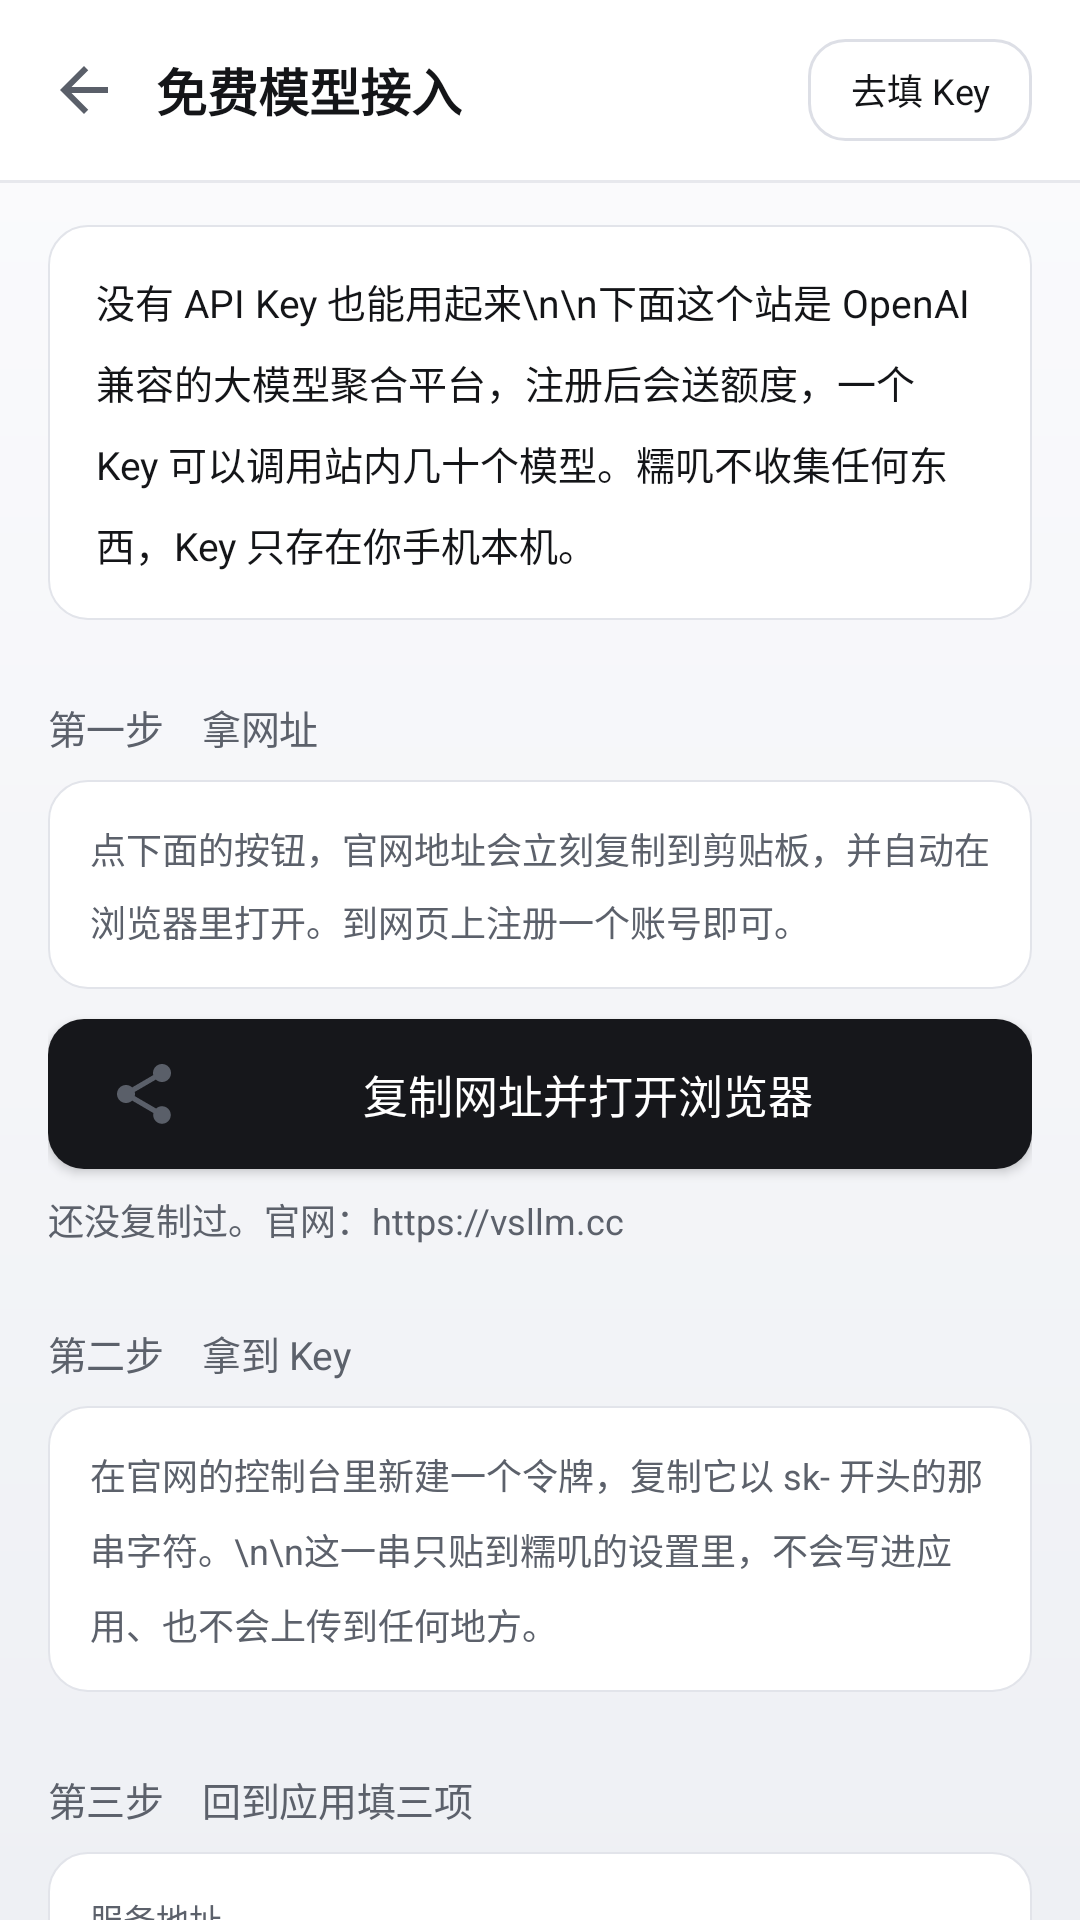

Screen size 1080x1920. Icon name, then its center in pixels as (x=x, y=y):
返回: (x=84, y=90)
